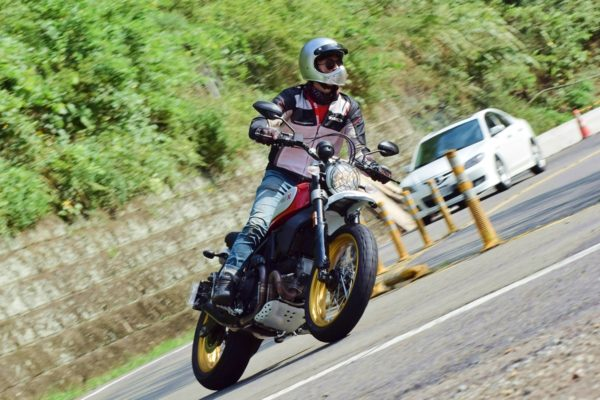helmet: (300, 43, 351, 86)
